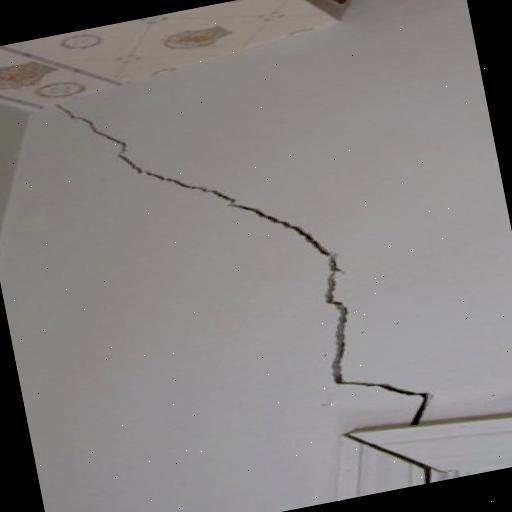spalling: (50, 99, 450, 425)
